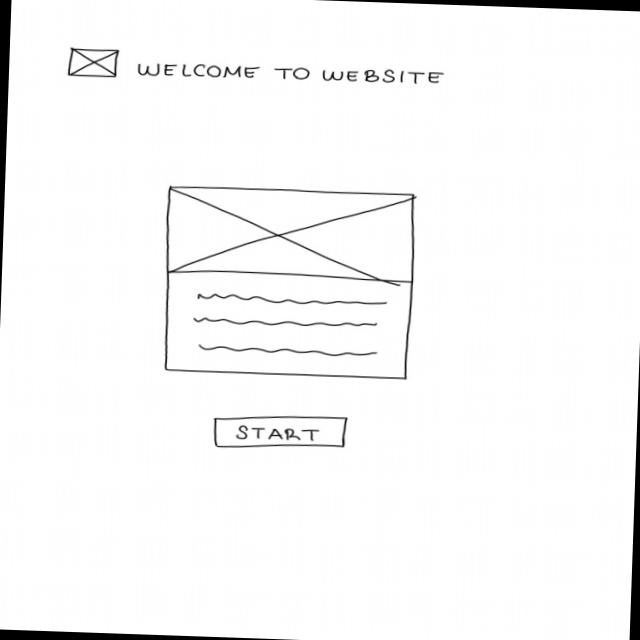button: (212, 410, 348, 453)
container: (162, 266, 415, 382)
image: (162, 182, 420, 284), (68, 46, 121, 80)
label: (133, 59, 444, 87)
textbox: (190, 290, 390, 360)
